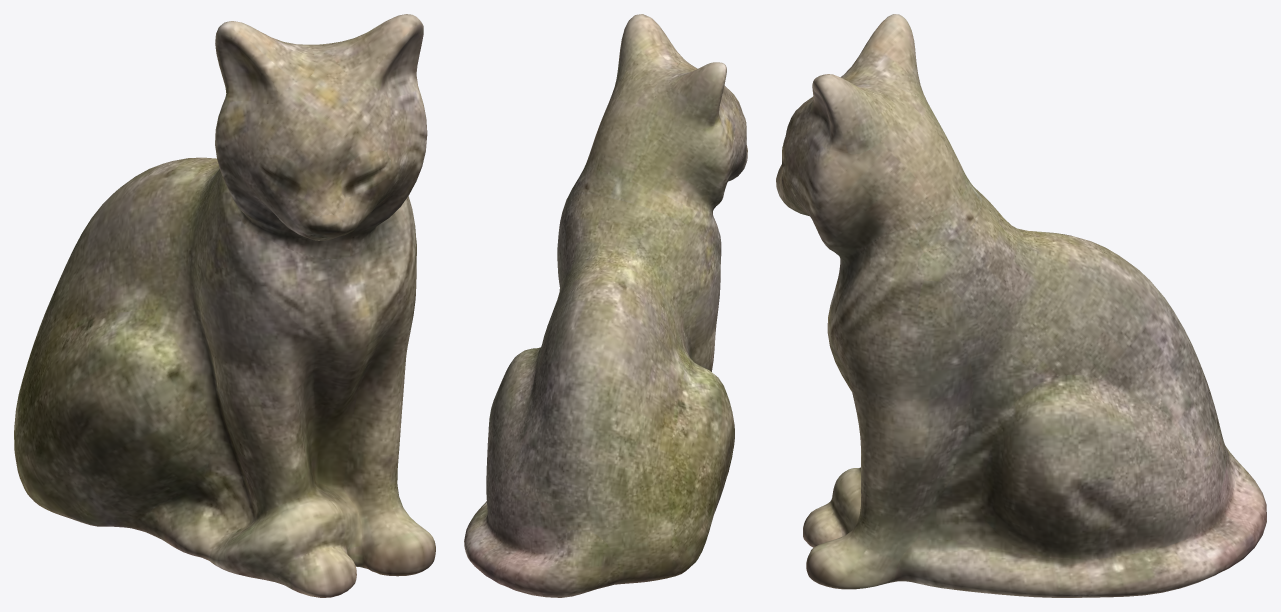
File: cat.glb
3 renders of one model, left to right at view 1: azimuth 30°, elevation 25°; view 2: azimuth 150°, elevation 25°; view 3: azimuth 270°, elevation 25°, orthographic. The views are drawn at different scales.
Visible parts, largest first — view 1: concrete_cat_statue; view 2: concrete_cat_statue; view 3: concrete_cat_statue.
Boxes of the visible parts, box(x1,y1,x2,y2) form: concrete_cat_statue: box(14, 14, 435, 597); concrete_cat_statue: box(464, 14, 747, 597); concrete_cat_statue: box(776, 14, 1266, 597).
Size of the model in its own units: 0.153 by 0.283 by 0.25.
1 material, 1 textured.
